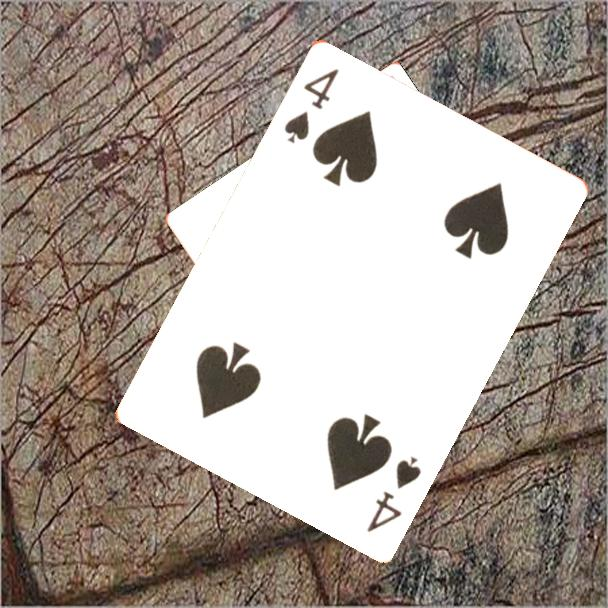s04: (362, 452, 424, 535), (280, 64, 342, 146)
